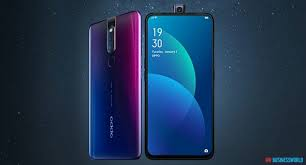oppo: (144, 8, 216, 162), (87, 10, 144, 164)
